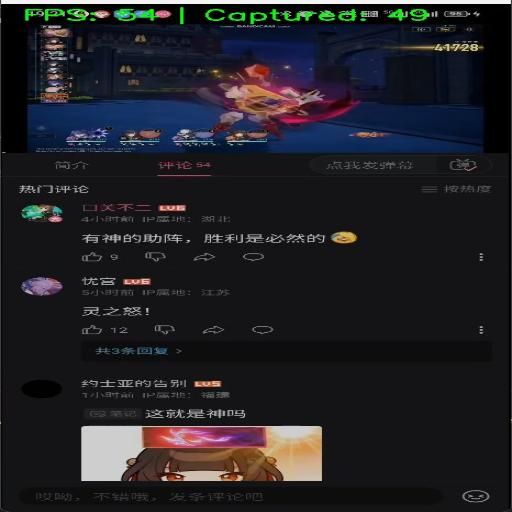butten: (14, 487, 449, 508), (85, 343, 484, 354), (27, 150, 123, 178), (141, 155, 219, 177), (72, 247, 124, 265), (75, 320, 129, 336)
input: (14, 487, 449, 508), (301, 157, 443, 172)
